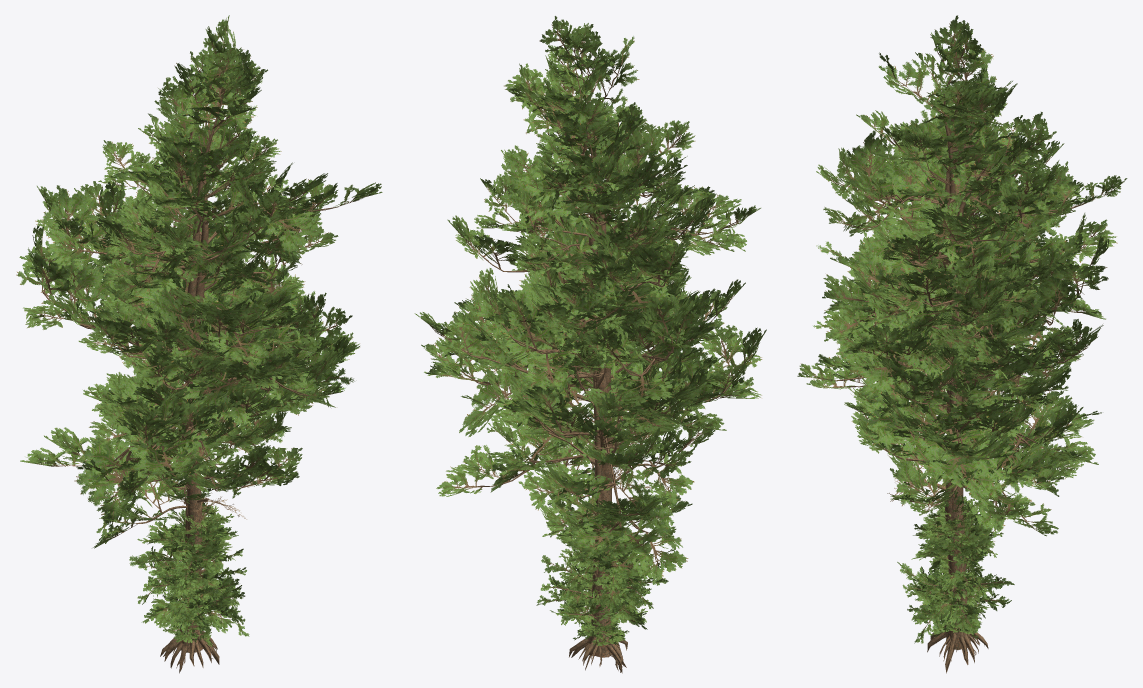
The model's file is pine-pack-forestland.glb.
3 views of the same model, side by side, from view 1: azimuth 30°, elevation 25°; view 2: azimuth 150°, elevation 25°; view 3: azimuth 270°, elevation 25° (orthographic). The views are drawn at different scales.
Parts seen in each view (by area): view 1: Pine_big_3_LOD1, Pine_big_1_LOD1, Pine_big_2_LOD1, Pine_big_3_LOD2, Pine_big_1_LOD2, Pine_big_2_LOD2, Pine_medium_1_LOD1, Pine_medium_1_LOD2, Pine_medium_2_LOD1, Pine_small_2_LOD1, Pine_small_1_LOD1, Pine_medium_3_LOD1 (+5 smaller); view 2: Pine_big_3_LOD1, Pine_big_2_LOD1, Pine_big_1_LOD1, Pine_big_3_LOD2, Pine_big_2_LOD2, Pine_big_1_LOD2, Pine_medium_1_LOD1, Pine_medium_2_LOD1, Pine_medium_3_LOD1, Pine_medium_1_LOD2, Pine_medium_2_LOD2, Pine_medium_3_LOD2 (+6 smaller); view 3: Pine_big_3_LOD1, Pine_big_2_LOD1, Pine_big_1_LOD1, Pine_big_3_LOD2, Pine_big_2_LOD2, Pine_big_1_LOD2, Pine_medium_1_LOD1, Pine_medium_2_LOD1, Pine_small_3_LOD1, Pine_medium_2_LOD2, Pine_medium_1_LOD2, Pine_small_2_LOD1 (+6 smaller).
Boxes of the visible parts, x1,y1,x2,y2 form: Pine_big_3_LOD1: [17, 15, 382, 673]; Pine_big_1_LOD1: [20, 96, 343, 662]; Pine_big_2_LOD1: [67, 113, 359, 666]; Pine_big_3_LOD2: [16, 18, 377, 668]; Pine_big_1_LOD2: [26, 124, 337, 654]; Pine_big_2_LOD2: [70, 126, 354, 663]; Pine_medium_1_LOD1: [112, 212, 318, 664]; Pine_medium_1_LOD2: [115, 232, 306, 654]; Pine_medium_2_LOD1: [76, 224, 302, 668]; Pine_small_2_LOD1: [129, 508, 246, 638]; Pine_small_1_LOD1: [137, 503, 239, 627]; Pine_medium_3_LOD1: [93, 320, 270, 651]; Pine_big_3_LOD1: [447, 16, 760, 673]; Pine_big_2_LOD1: [421, 137, 766, 669]; Pine_big_1_LOD1: [414, 101, 727, 667]; Pine_big_3_LOD2: [455, 20, 755, 671]; Pine_big_2_LOD2: [427, 149, 762, 660]; Pine_big_1_LOD2: [424, 114, 722, 652]; Pine_medium_1_LOD1: [436, 203, 694, 666]; Pine_medium_2_LOD1: [482, 244, 703, 670]; Pine_medium_3_LOD1: [538, 307, 715, 659]; Pine_medium_1_LOD2: [439, 214, 693, 666]; Pine_medium_2_LOD2: [487, 248, 701, 668]; Pine_medium_3_LOD2: [538, 345, 712, 578]; Pine_big_3_LOD1: [816, 15, 1117, 664]; Pine_big_2_LOD1: [816, 115, 1127, 673]; Pine_big_1_LOD1: [797, 79, 1103, 664]; Pine_big_3_LOD2: [820, 19, 1113, 664]; Pine_big_2_LOD2: [826, 132, 1120, 670]; Pine_big_1_LOD2: [800, 111, 1099, 651]; Pine_medium_1_LOD1: [861, 182, 1059, 661]; Pine_medium_2_LOD1: [844, 228, 1083, 662]; Pine_small_3_LOD1: [902, 489, 1014, 643]; Pine_medium_2_LOD2: [847, 245, 1079, 654]; Pine_medium_1_LOD2: [861, 226, 1052, 654]; Pine_small_2_LOD1: [907, 496, 994, 633].
Size of the model in its own units: 9.63 by 19.62 by 8.92.
2 materials, 2 textured.
